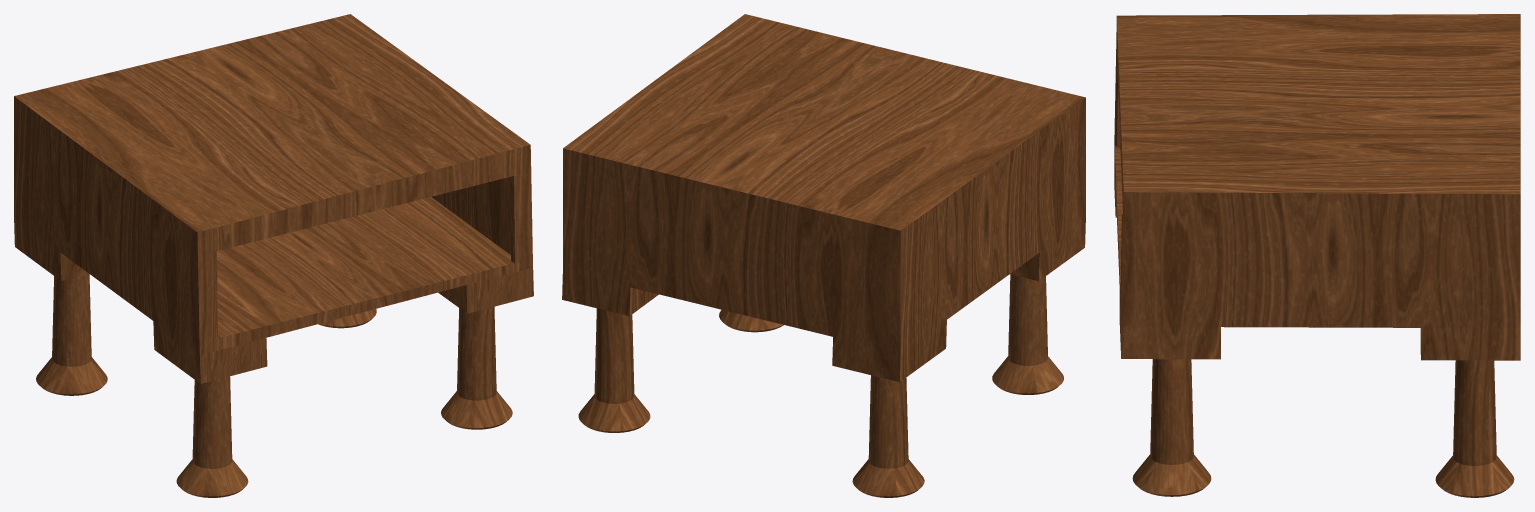
The model's file is tumbaFinalWithoutRRRR.fbx.
3 views of the same model, side by side, from view 1: azimuth 30°, elevation 25°; view 2: azimuth 150°, elevation 25°; view 3: azimuth 270°, elevation 25° (orthographic). The views are drawn at different scales.
Parts seen in each view (by area): view 1: Cylinder.022; view 2: Cylinder.022; view 3: Cylinder.022.
Part boxes in pixels (bbox=[...]): Cylinder.022: bbox=[14, 14, 533, 497]; Cylinder.022: bbox=[562, 14, 1085, 497]; Cylinder.022: bbox=[1114, 14, 1520, 497].
Size of the model in its own units: 161 by 127 by 152.
